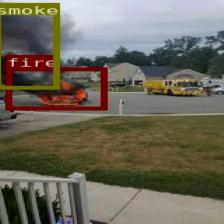fire: (5, 67, 105, 109)
smoke: (0, 2, 58, 88)
